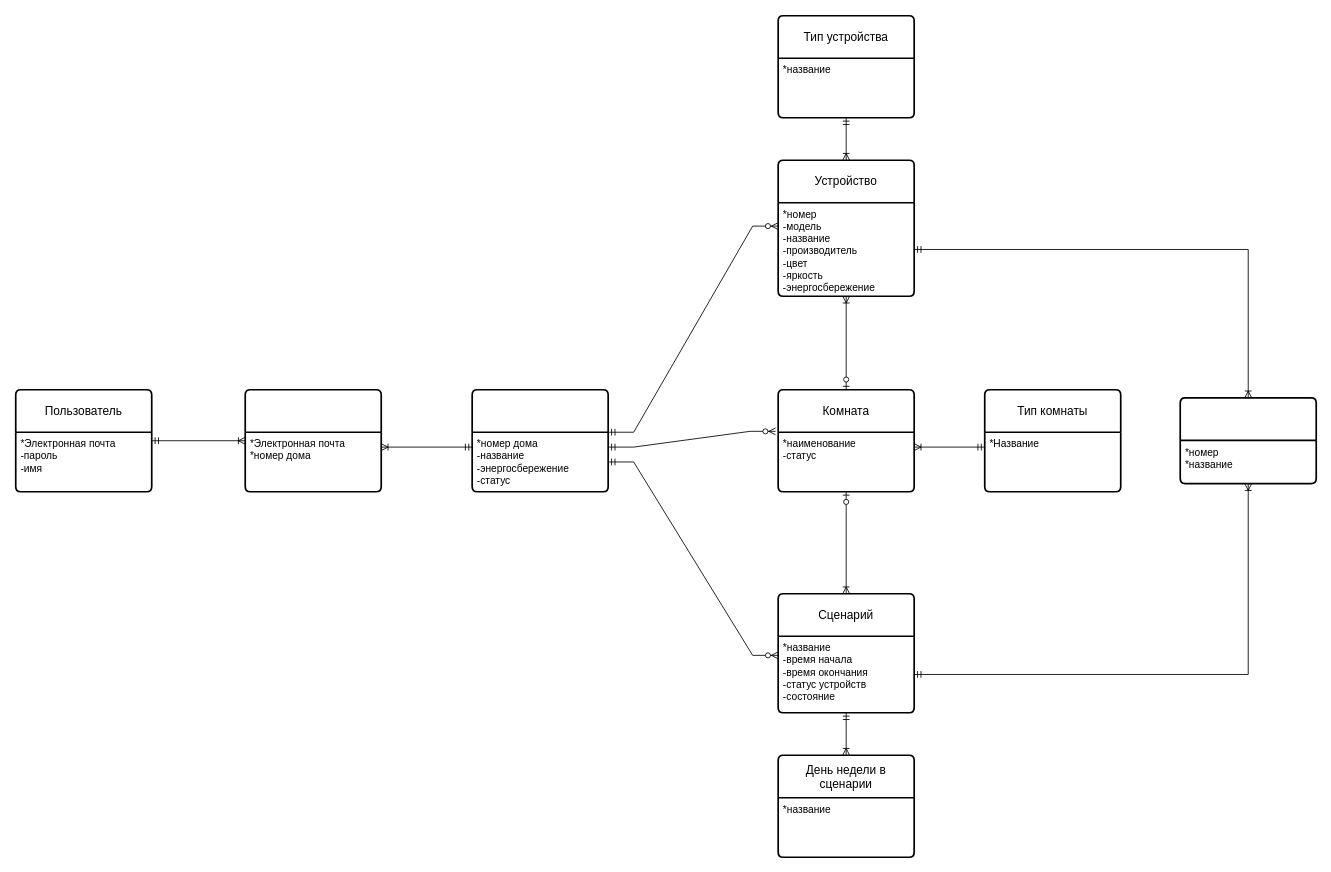
This 1331x872 diagram has some shape labels left out. The box of each missing label's shape, as (x1, y1, x2, y2) in pixels:
Личный кабинет: (244, 388, 382, 492)
Умный дом: (471, 388, 609, 492)
Устройство в сценарии: (1179, 397, 1317, 484)
